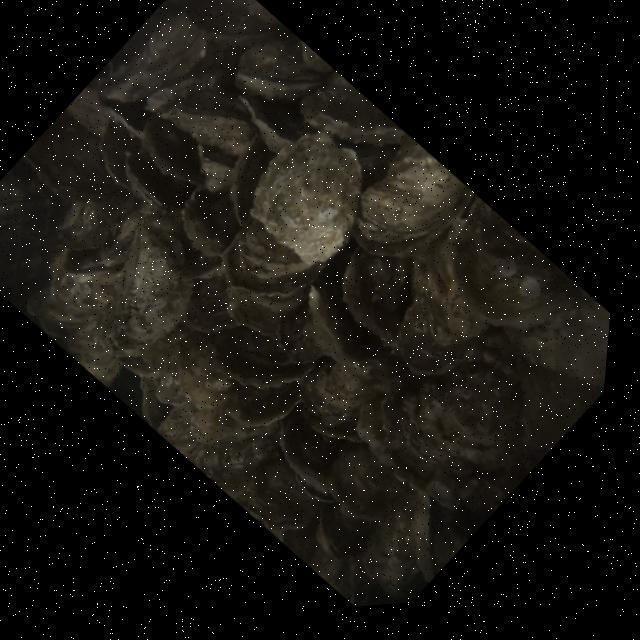Oyster-Closed: (57, 203, 225, 371), (213, 355, 307, 449)
Oyster-Indeterminate: (342, 313, 557, 526), (349, 216, 529, 398), (227, 109, 402, 282), (417, 194, 586, 359), (8, 231, 168, 389), (329, 467, 479, 609), (330, 134, 473, 279), (280, 331, 409, 459), (285, 60, 413, 184), (96, 7, 217, 131), (320, 232, 442, 353), (109, 135, 203, 226), (125, 105, 220, 195)
Oyster-Open: (136, 34, 290, 184), (201, 205, 329, 329), (217, 11, 343, 136), (202, 295, 327, 416), (252, 405, 370, 519), (164, 0, 283, 71)
